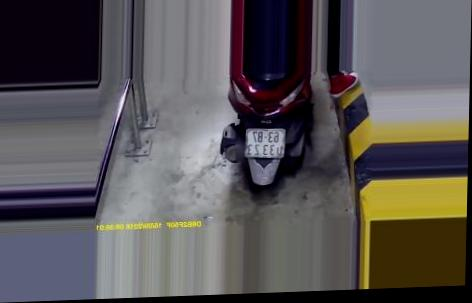License_Plate: (241, 126, 290, 163)
